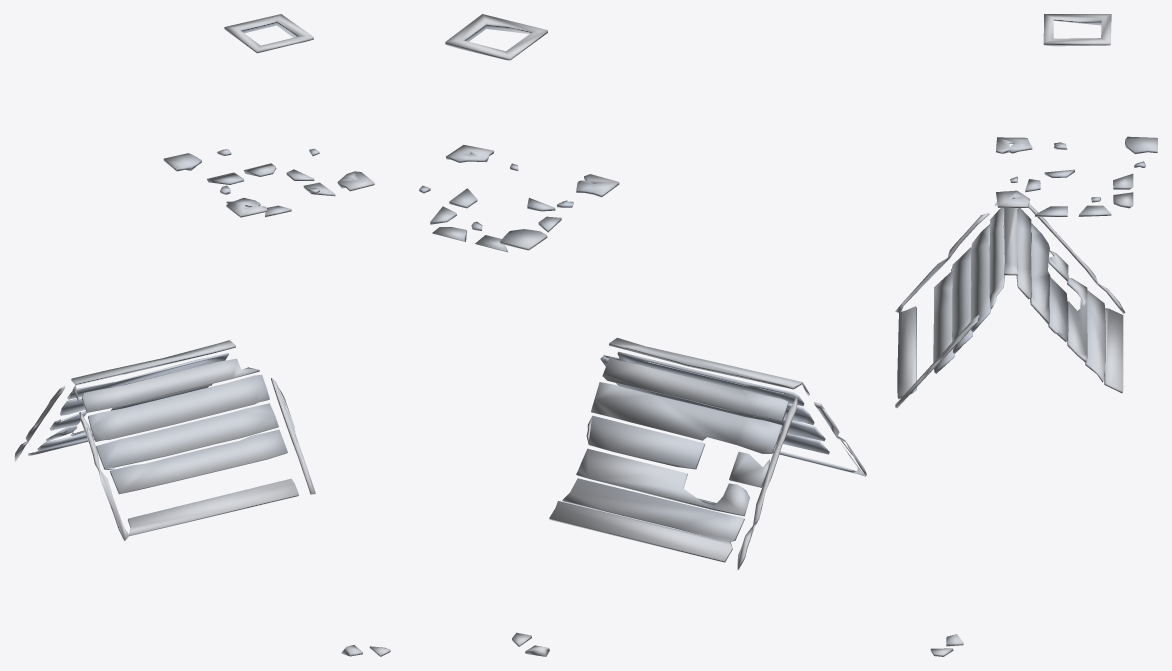
Rendered from protocol.rocket-pool.snow.glb.
3 views of the same model, side by side, from view 1: azimuth 30°, elevation 25°; view 2: azimuth 150°, elevation 25°; view 3: azimuth 270°, elevation 25° (orthographic). The views are drawn at different scales.
Parts seen in each view (by area): view 1: building.protocol.rocket-pool.snow.mesh; view 2: building.protocol.rocket-pool.snow.mesh; view 3: building.protocol.rocket-pool.snow.mesh.
Boxes of the visible parts, x1=… form: building.protocol.rocket-pool.snow.mesh: x1=14, y1=14, x2=390, y2=656; building.protocol.rocket-pool.snow.mesh: x1=419, y1=14, x2=866, y2=656; building.protocol.rocket-pool.snow.mesh: x1=895, y1=14, x2=1157, y2=656.
Size of the model in its own units: 8.36 by 15.36 by 6.07.
